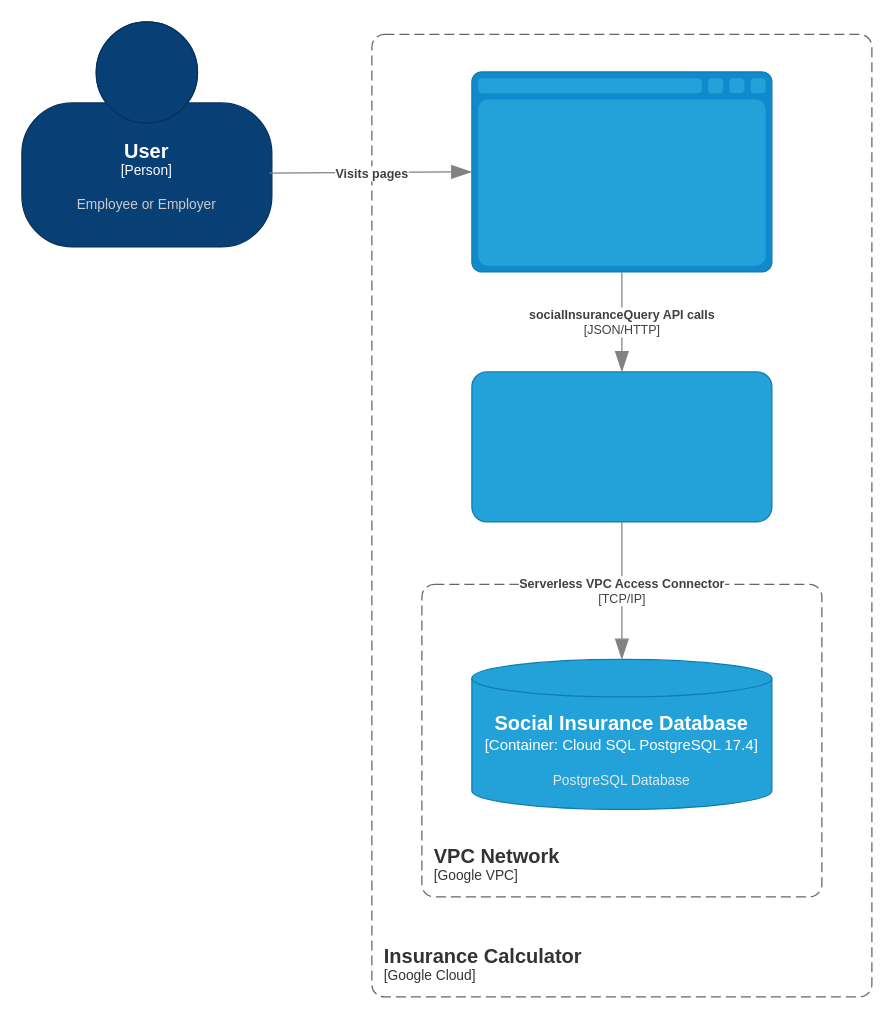
This 894x1019 diagram has some shape labels left out. The centre of each missing label's shape, as x and y in pixels:
"Social Insurance Service [Container: SpringBoot] Backend Service" goes at (x=621, y=446).
"Social Insurance SPA [Container: React] Front Service" goes at (x=621, y=171).
